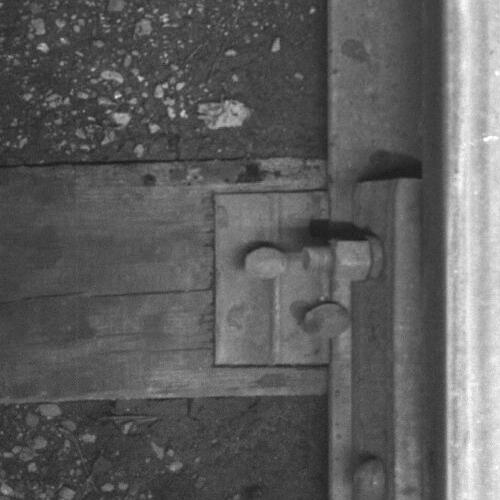do: (212, 191, 352, 366)
fp_beg: (354, 161, 421, 200)
hole_do: (302, 209, 339, 247)
rail: (446, 1, 500, 500)
tie_wood: (1, 163, 331, 395)
wood_crack: (19, 282, 214, 304)
